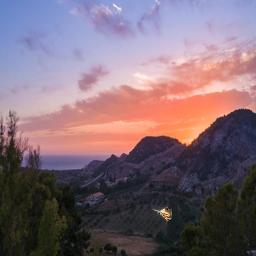Sparrow: (152, 207, 172, 221)
